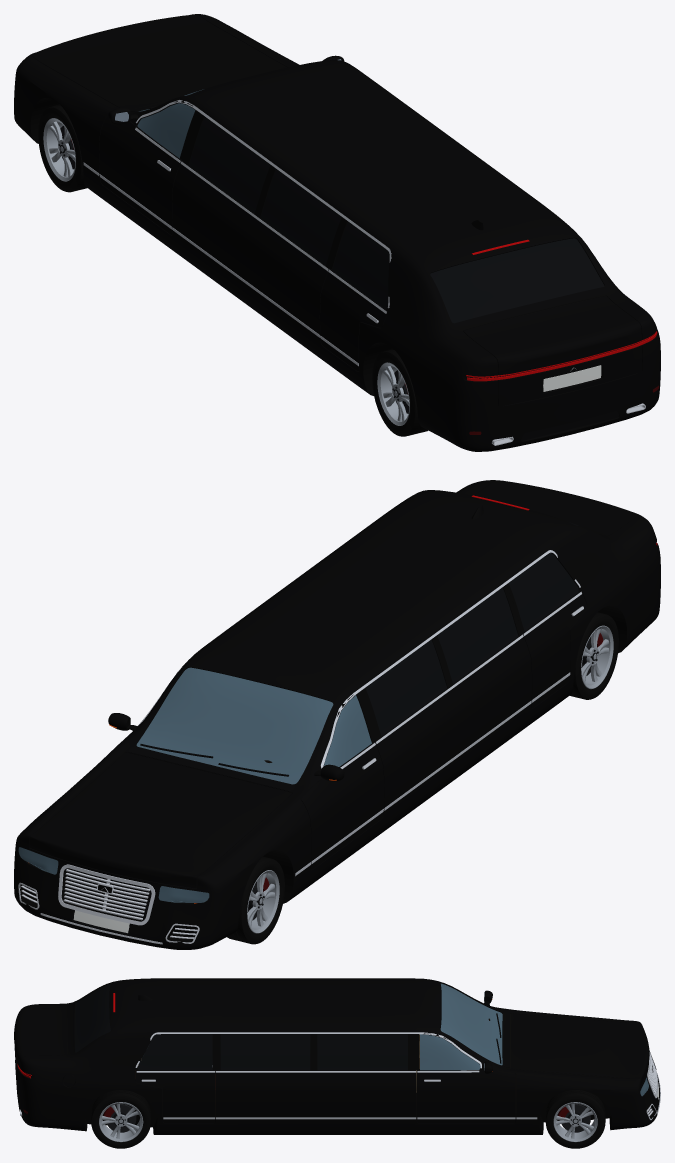
Rendered from ExecutiveLimo.obj.
The picture shows the model from 3 angles, top to bottom: view 1: azimuth 30°, elevation 25°; view 2: azimuth 150°, elevation 25°; view 3: azimuth 270°, elevation 25°; orthographic projection. The views are drawn at different scales.
Visible parts, largest first — view 1: Body, GlassPrivacy, Door_Driver, Door_RearL, Wheel_RL, Door_RearL_Glass, Wheel_FL, Chrome, Door_Driver_Glass, Lights_Rear; view 2: Body, Glass, GlassPrivacy, Door_Driver, Grille, Door_RearL, Wheel_FL, Door_RearL_Glass, Chrome, Wheel_RL, Door_Driver_Glass; view 3: Body, GlassPrivacy, Glass, Door_RearR, Wheel_FR, Wheel_RR, Door_RearR_Glass, Chrome, Grille.
Boxes of the visible parts, x1,y1,x2,y2 form: Body: (14, 14, 660, 451); GlassPrivacy: (189, 117, 604, 323); Door_Driver: (99, 114, 181, 234); Door_RearL: (320, 269, 387, 371); Wheel_RL: (372, 349, 427, 436); Door_RearL_Glass: (332, 222, 389, 309); Wheel_FL: (38, 104, 87, 192); Chrome: (83, 100, 645, 445); Door_Driver_Glass: (137, 103, 195, 158); Lights_Rear: (466, 239, 658, 434); Body: (14, 480, 660, 949); Glass: (18, 667, 333, 902); GlassPrivacy: (365, 521, 578, 736); Door_Driver: (300, 742, 384, 869); Grille: (21, 864, 197, 939); Door_RearL: (522, 591, 586, 707); Wheel_FL: (227, 856, 284, 944); Door_RearL_Glass: (509, 553, 578, 631); Chrome: (18, 550, 580, 944); Wheel_RL: (569, 612, 618, 699); Door_Driver_Glass: (324, 695, 371, 766); Body: (14, 978, 660, 1134); GlassPrivacy: (74, 984, 407, 1070); Glass: (420, 983, 648, 1096); Door_RearR: (135, 1069, 215, 1123); Wheel_FR: (545, 1090, 605, 1148); Wheel_RR: (91, 1090, 150, 1148); Door_RearR_Glass: (137, 1034, 212, 1070); Chrome: (14, 1032, 660, 1119); Grille: (647, 1051, 658, 1115).
Bounding box in the file's own units: 7.68 × 5.57 × 27.13.
